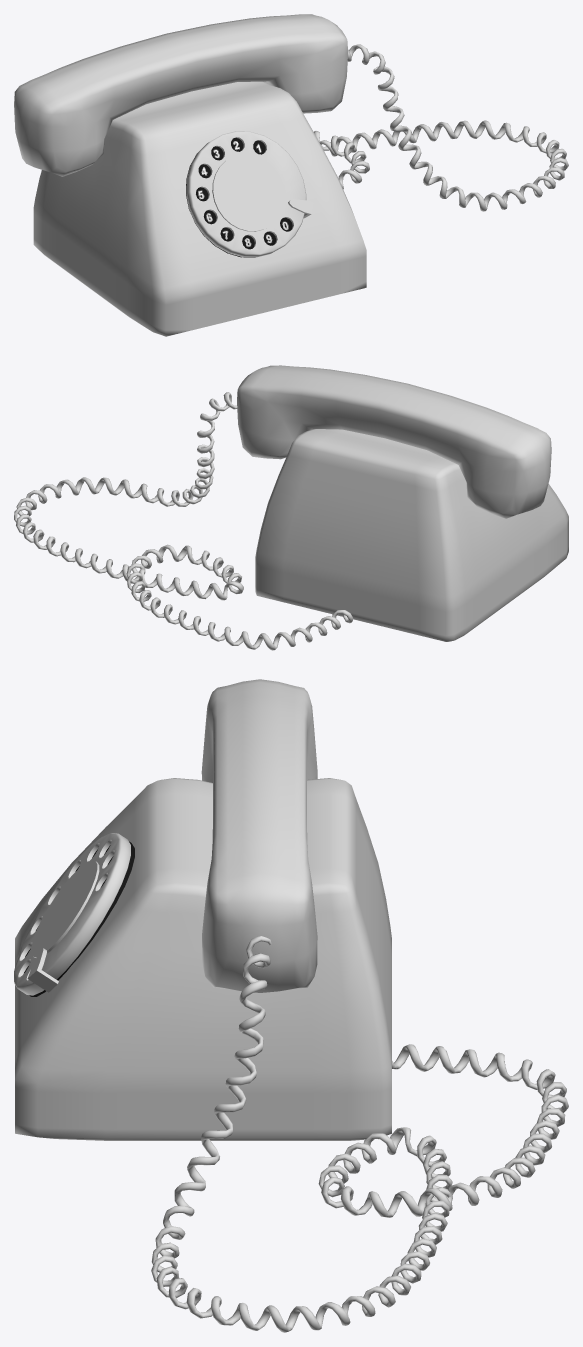
Rendered from telefon.fbx.
3 views of the same model, one above another, from view 1: azimuth 30°, elevation 25°; view 2: azimuth 150°, elevation 25°; view 3: azimuth 270°, elevation 25° (orthographic). The views are drawn at different scales.
Visible parts, largest first — view 1: telefonblock, hörer, wählscheibe_3, schnur, zahlenscheibe; view 2: telefonblock, hörer, schnur; view 3: telefonblock, hörer, schnur, wählscheibe_3.
Boxes of the visible parts, bbox=[...] form: telefonblock: bbox=[33, 81, 366, 336]; hörer: bbox=[14, 14, 347, 176]; wählscheibe_3: bbox=[186, 131, 306, 257]; schnur: bbox=[314, 44, 568, 211]; zahlenscheibe: bbox=[186, 138, 292, 257]; telefonblock: bbox=[255, 429, 568, 641]; hörer: bbox=[237, 365, 551, 518]; schnur: bbox=[14, 392, 353, 650]; telefonblock: bbox=[15, 778, 391, 1140]; hörer: bbox=[201, 679, 317, 992]; schnur: bbox=[151, 936, 568, 1332]; wählscheibe_3: bbox=[14, 833, 130, 995].
Bounding box in the file's own units: 168 × 64.01 × 103.
1 material, 1 textured.
